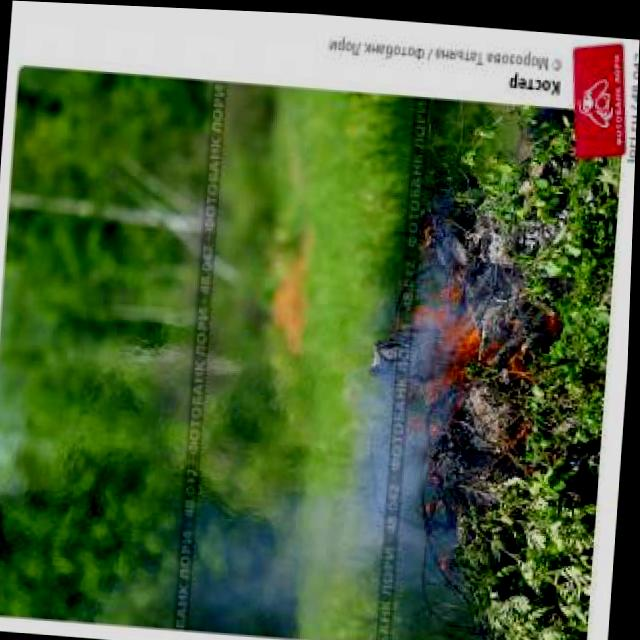Fire: (415, 309, 492, 409)
